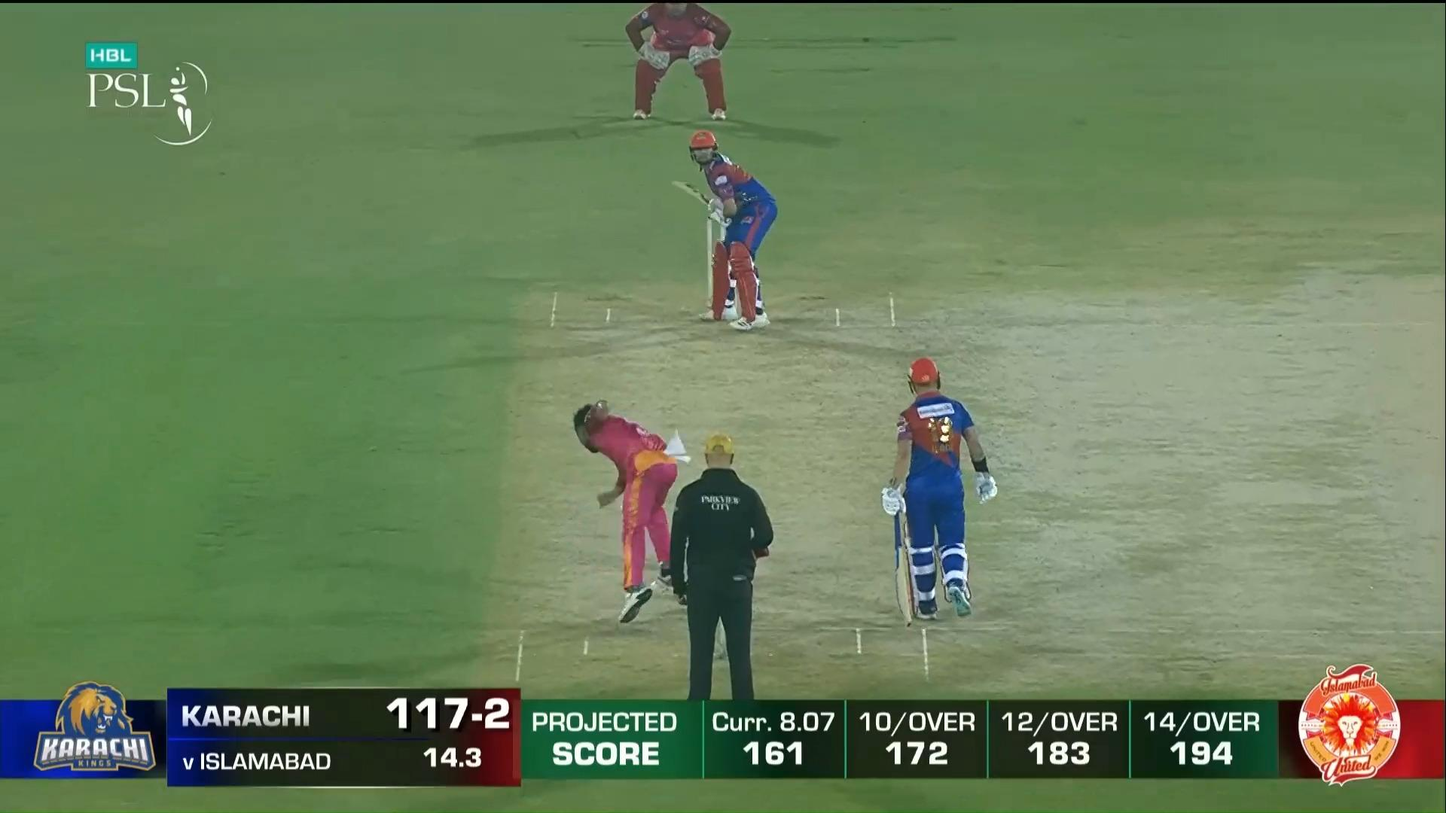batsman: (671, 130, 778, 331)
